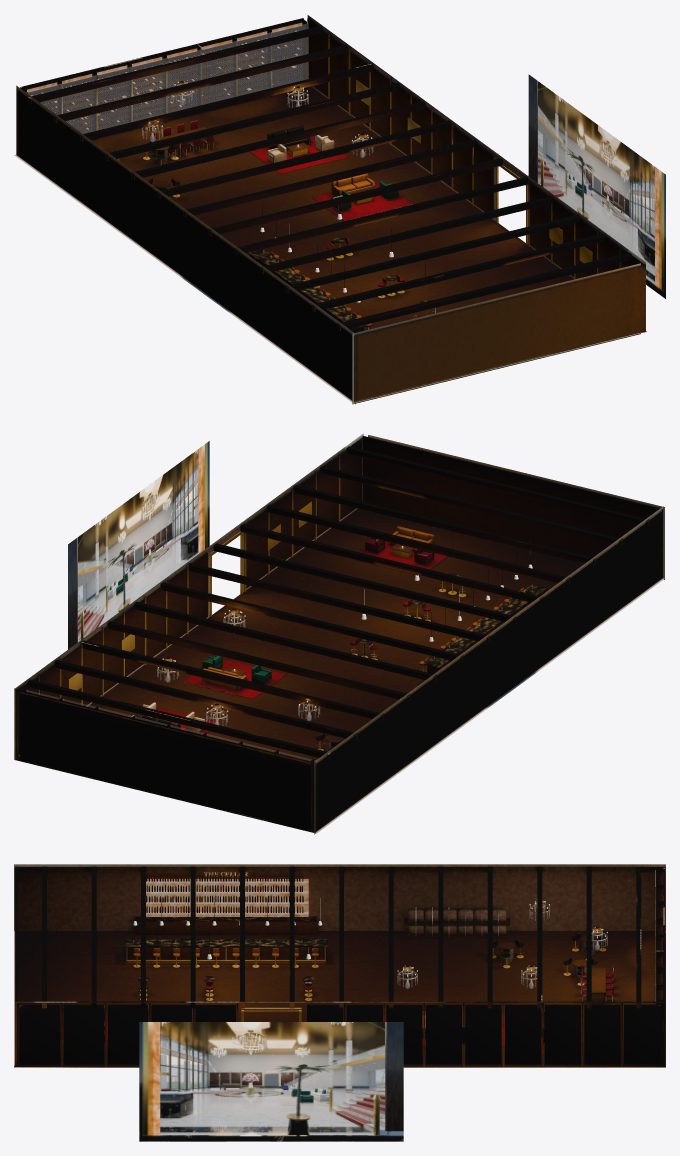
The model's file is int_eko_cellar.glb.
3 renders of one model, top to bottom at view 1: azimuth 30°, elevation 25°; view 2: azimuth 150°, elevation 25°; view 3: azimuth 270°, elevation 25°, orthographic. The views are drawn at different scales.
Visible parts, largest first — view 1: ROOM, VIEW_lobby, GLASS; view 2: ROOM, VIEW_lobby, GLASS; view 3: ROOM, VIEW_lobby, GLASS.
Part boxes in pixels (x1,y1,x2,y2): ROOM: [14, 15, 646, 404]; VIEW_lobby: [528, 74, 665, 298]; GLASS: [28, 24, 373, 317]; ROOM: [14, 433, 665, 834]; VIEW_lobby: [68, 441, 209, 649]; GLASS: [27, 585, 532, 760]; ROOM: [14, 864, 665, 1067]; VIEW_lobby: [139, 1022, 403, 1141]; GLASS: [133, 881, 607, 988].
Size of the model in its own units: 25.4 by 8 by 39.5.
Materials: 3 (2 with a texture image).
